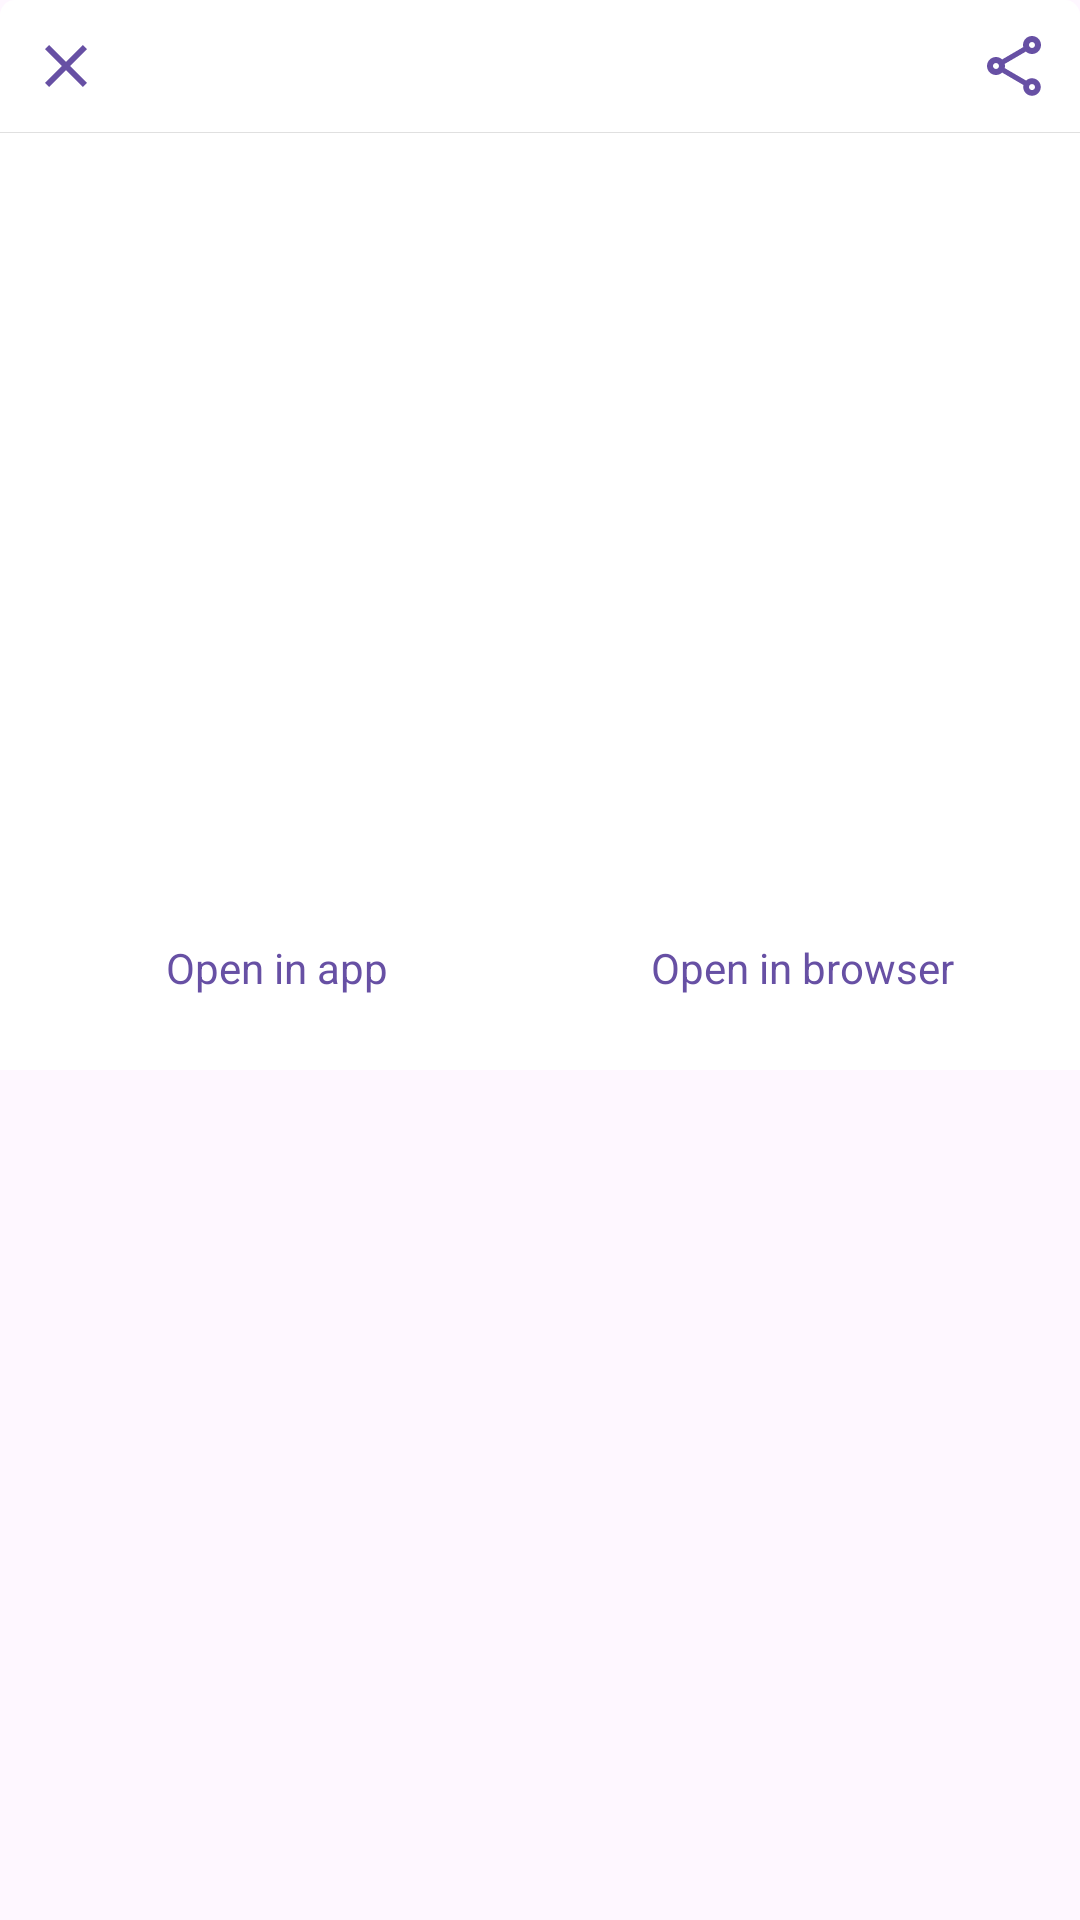

Locate icon controls on the screen. Image size 1080 x 1920, boxes as (x1, y1, x2, y2).
Close dialog: (45, 45, 87, 87)
Share: (987, 36, 1041, 96)
